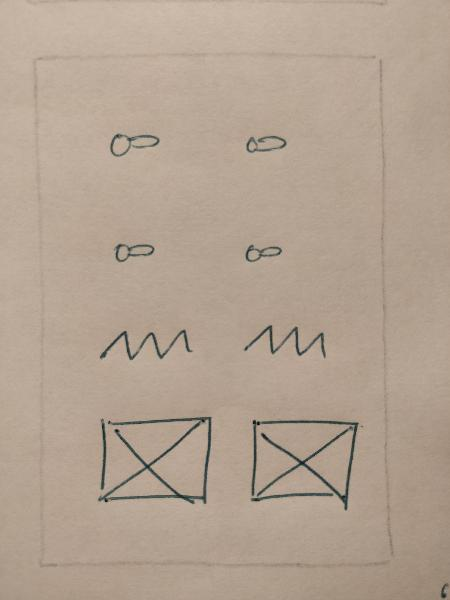image: (84, 410, 218, 510), (241, 409, 366, 515)
switch: (102, 118, 166, 165), (234, 125, 301, 163), (105, 229, 164, 271), (231, 232, 295, 270)
text: (231, 311, 341, 368), (91, 316, 201, 366)
